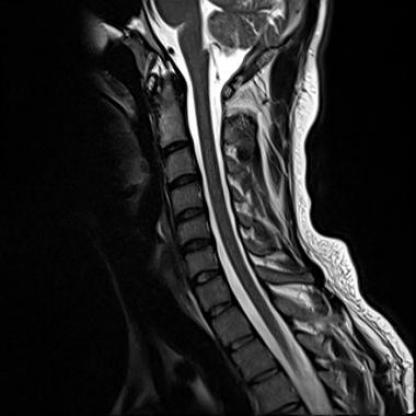Degenerative Disc Diseaserotation: (178, 237, 213, 256)
Disc Bulgerotation: (178, 237, 214, 255)
